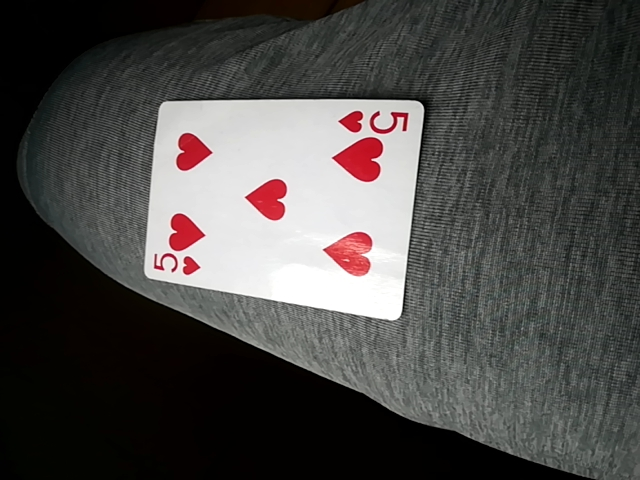hx 5: (147, 96, 427, 322)
